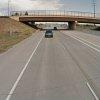Bridge: (12, 3, 90, 27)
